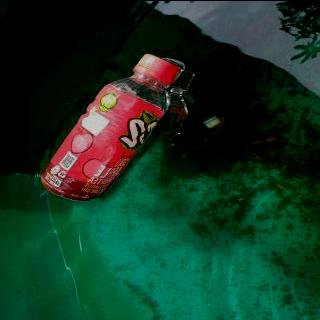bottle: (38, 50, 182, 200)
